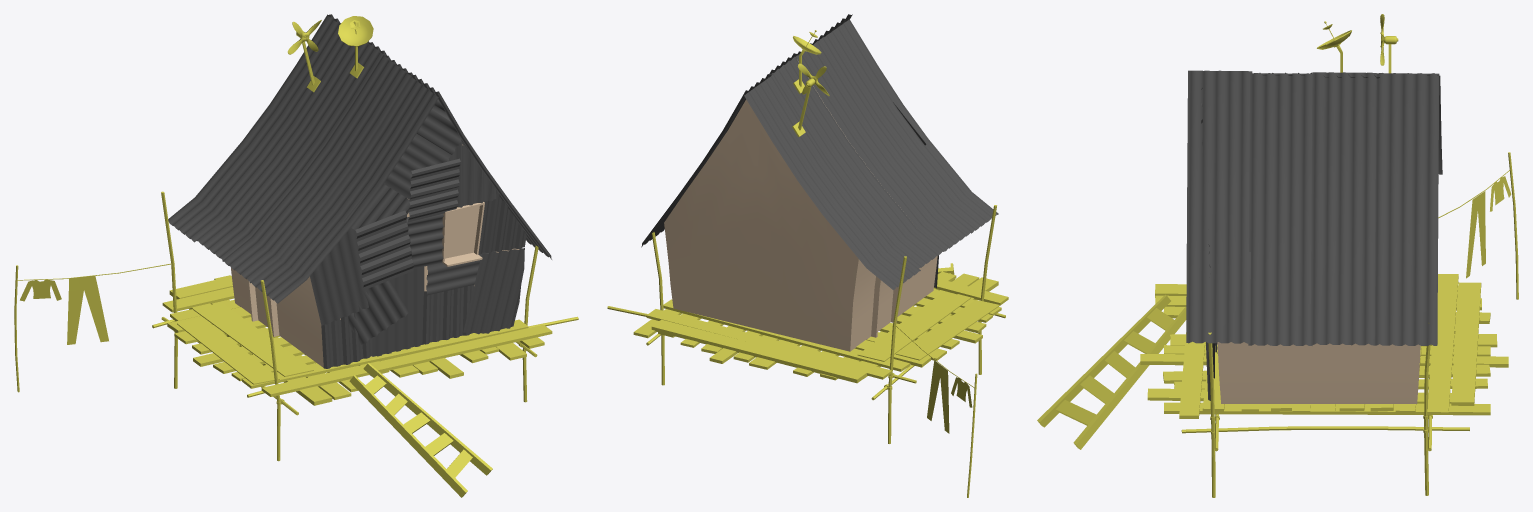
File: House_01.fbx
3 views of the same model, side by side, from view 1: azimuth 30°, elevation 25°; view 2: azimuth 150°, elevation 25°; view 3: azimuth 270°, elevation 25° (orthographic). The views are drawn at different scales.
Visible parts, largest first — view 1: House_01; view 2: House_01; view 3: House_01.
Boxes of the visible parts, box(x1,y1,x2,y2) form: House_01: box(14, 14, 578, 497); House_01: box(607, 14, 1008, 497); House_01: box(1037, 14, 1518, 497).
Bounding box in the file's own units: 19.14 × 16.07 × 16.85.
